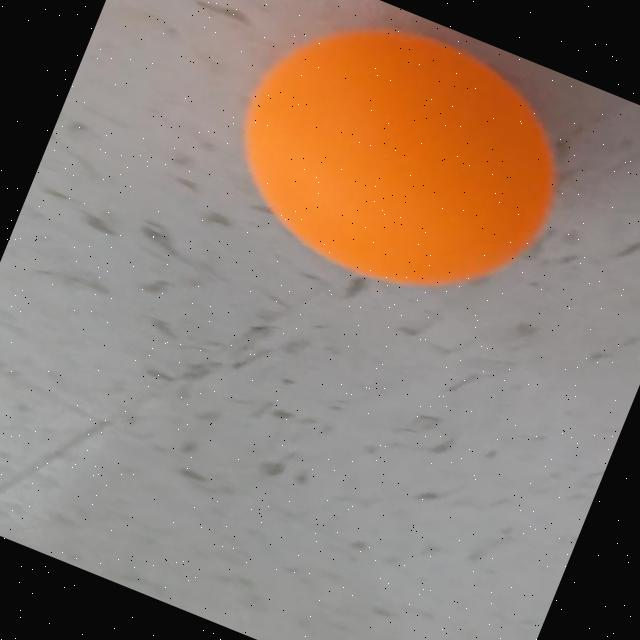ping-pong-ball: (189, 0, 610, 344)
